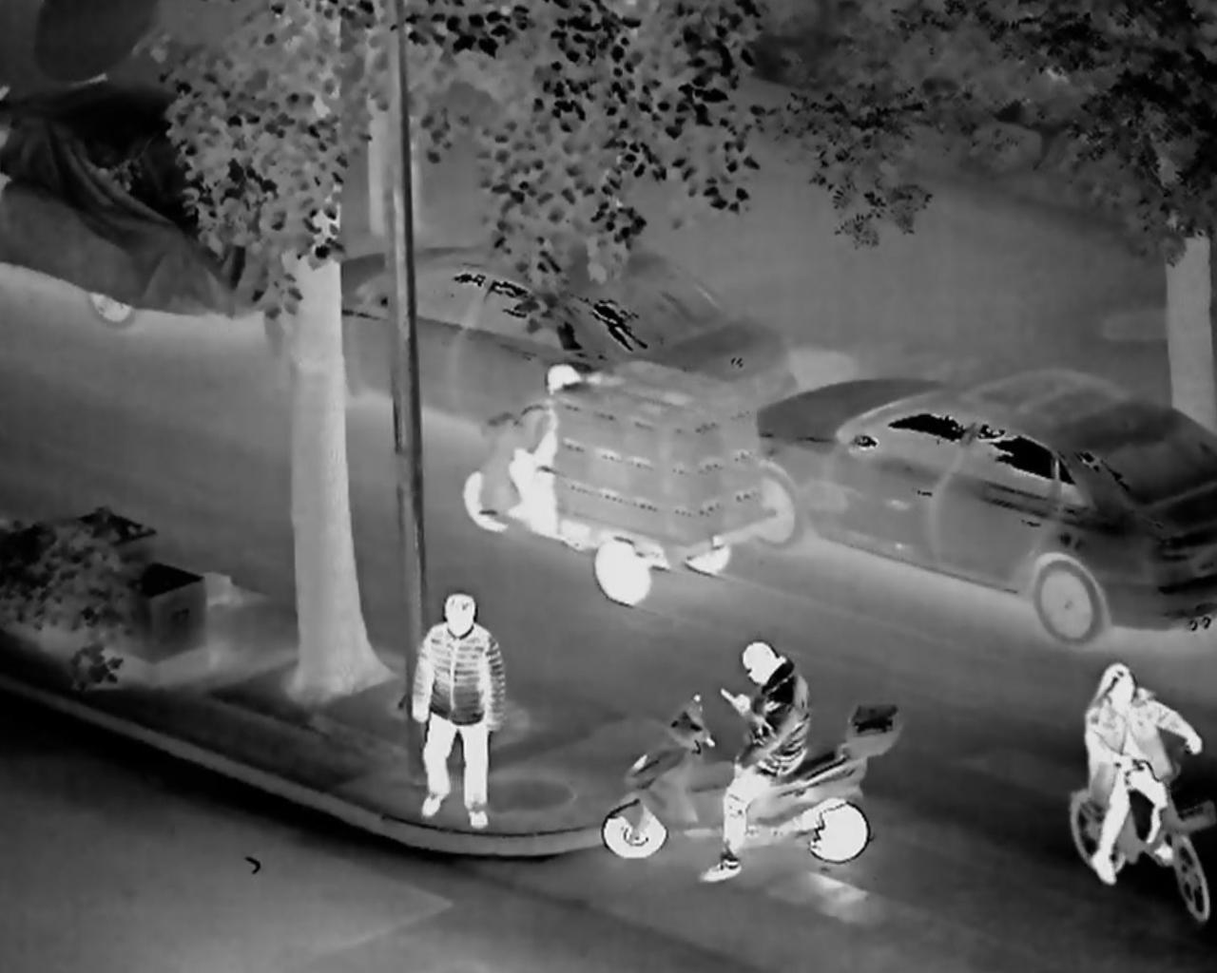person: (1068, 642, 1207, 914), (399, 581, 519, 841), (695, 632, 816, 887), (509, 351, 595, 516)
